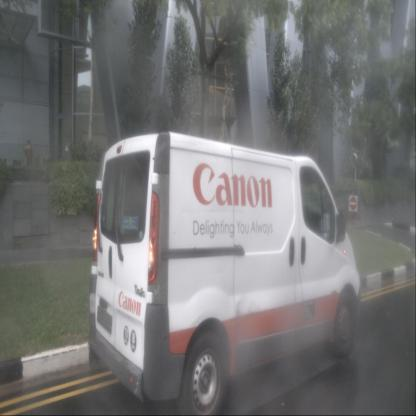human-pedestrian-adult: (25, 139, 33, 179)
vehicle-car: (88, 131, 362, 416)
